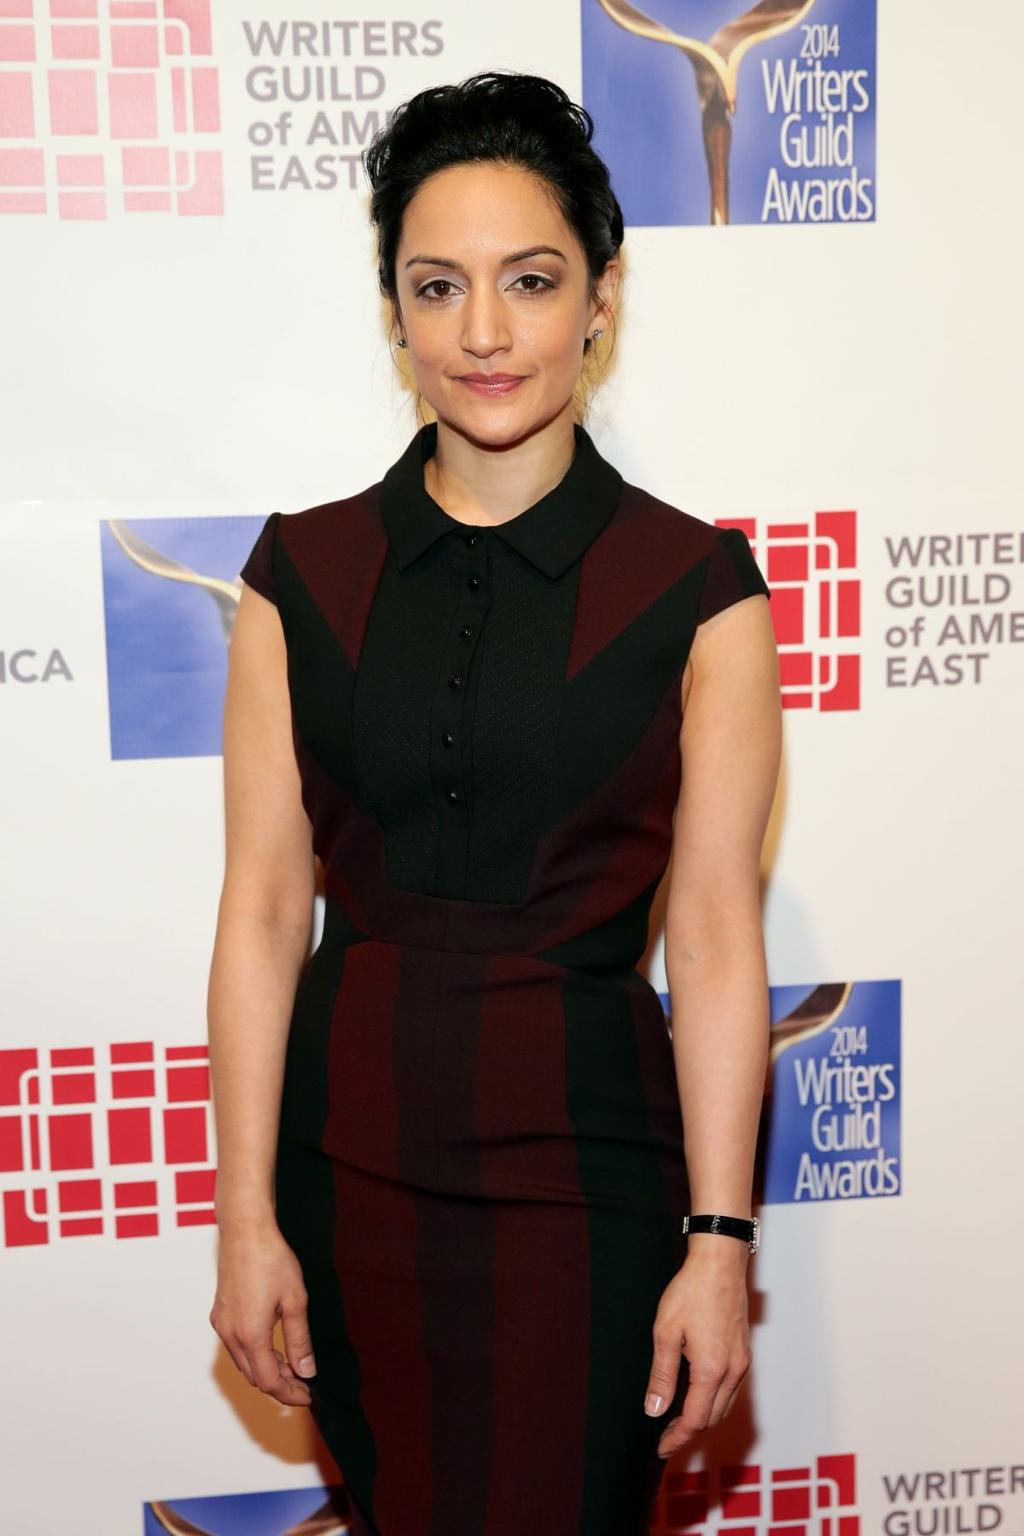face: (402, 159, 585, 456)
